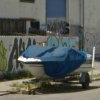Boat: (14, 34, 95, 84)
